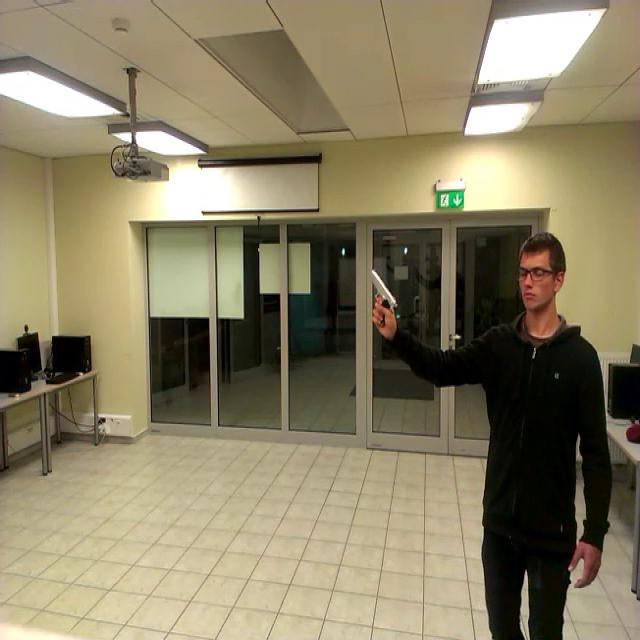Gun: (369, 268, 397, 326)
